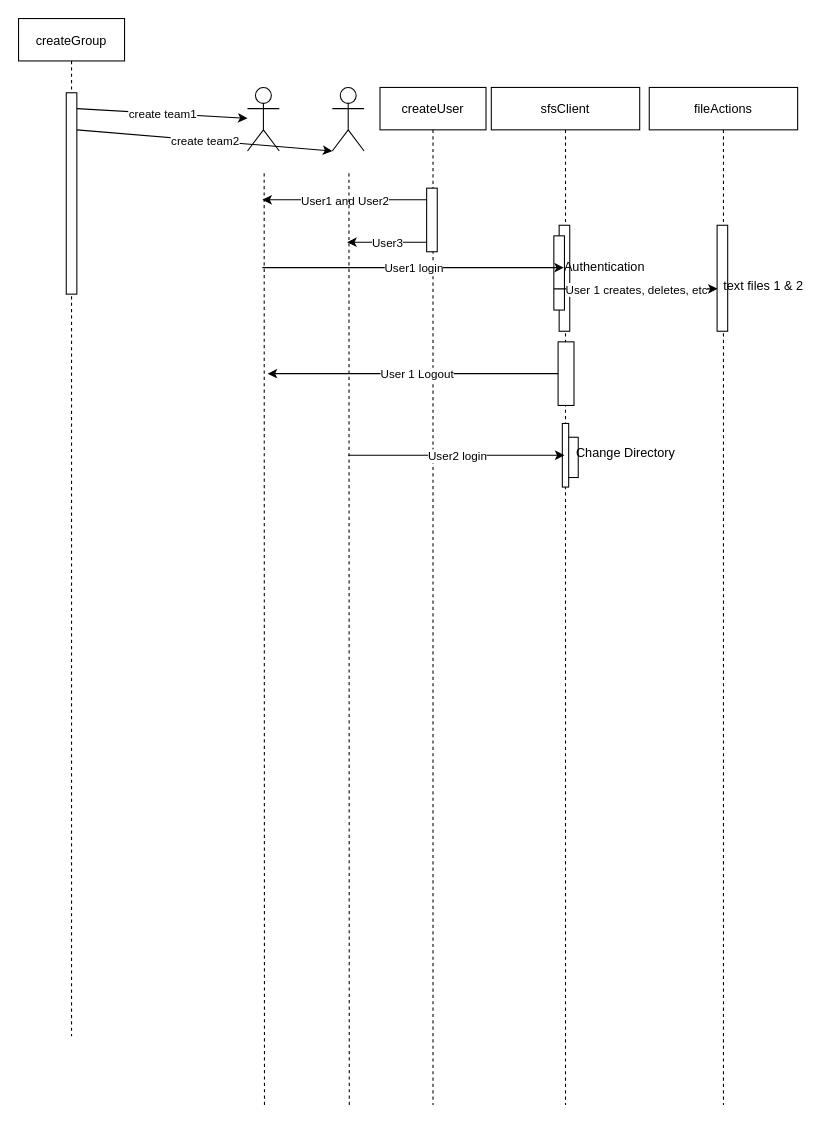
Some shapes in this 825 by 1125 pixel diagram are drawn without their labels. The shapes that lost their labels are listed below. From the top down, each one's centre as x and y in pixels, then its label:
At (x=262, y=118): "team1".
At (x=347, y=118): "team2".
